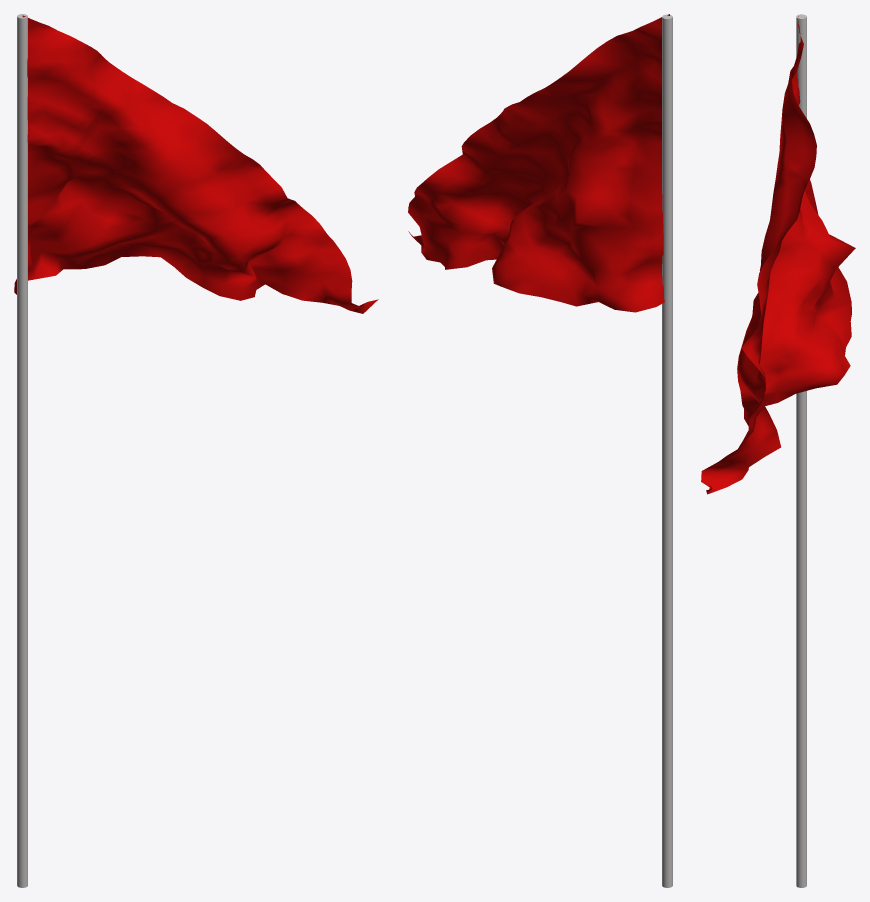
The model's file is flag.dae.
3 renders of one model, left to right at view 1: azimuth 30°, elevation 25°; view 2: azimuth 150°, elevation 25°; view 3: azimuth 270°, elevation 25°, orthographic.
Parts seen in each view (by area): view 1: 旗帜002ok_ncl1_3, 旗帜002ok_ncl1_4; view 2: 旗帜002ok_ncl1_3, 旗帜002ok_ncl1_4; view 3: 旗帜002ok_ncl1_3, 旗帜002ok_ncl1_4.
Part boxes in pixels (x1,y1,x2,y2): 旗帜002ok_ncl1_3: (14,15,378,313); 旗帜002ok_ncl1_4: (17,14,27,887); 旗帜002ok_ncl1_3: (408,14,669,312); 旗帜002ok_ncl1_4: (662,14,672,887); 旗帜002ok_ncl1_3: (701,16,855,494); 旗帜002ok_ncl1_4: (796,14,806,887).
Bounding box in the file's own units: 1.53 × 4.07 × 0.6556.
